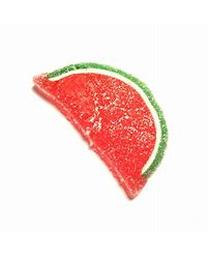watermelon: (31, 62, 169, 204)
